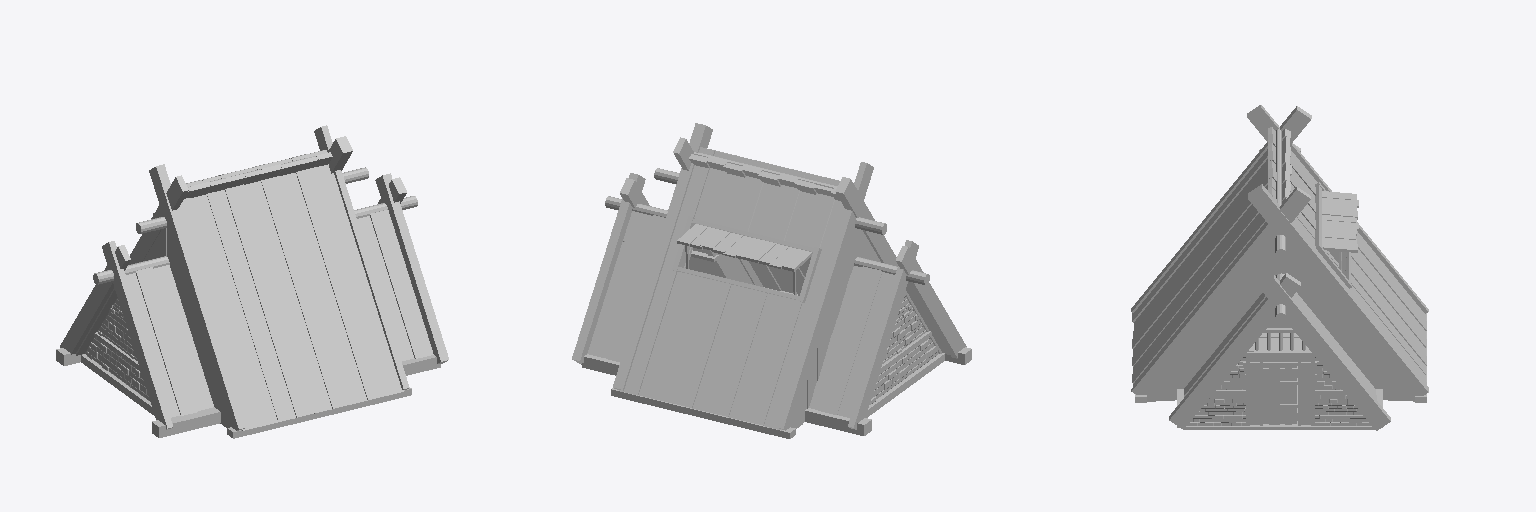
Rendered from lowpoly_viking_house_007.obj.
3 views of the same model, side by side, from view 1: azimuth 30°, elevation 25°; view 2: azimuth 150°, elevation 25°; view 3: azimuth 270°, elevation 25° (orthographic).
Visible parts, largest first — view 1: Cube.238, Cube.496, Cube.230, Cube.227, Cube.2685, Cube.472, Cube.228, Wall.002, Cube.491, Cube.231, Cube.2684, Cube.471 (+10 smaller); view 2: Cube.2972, Cube.232, Cube.497, Cube.479, Cube.2677, Cube.2680, Wall.002, Cube.238, Cube.2684, Cube.490, Cube.2675, Cube.2679 (+11 smaller); view 3: Cube.238, Cube.479, Cube.491, Cube.2972, Cube.274, Cube.233, Cube.490, Cube.472, Cube.232, Cube.810, Cube.496, Cube.497 (+5 smaller).
Part boxes in pixels (x1,y1,x2,y2): Cube.238: (178,150,403,430); Cube.496: (149,164,246,430); Cube.230: (370,210,433,358); Cube.227: (136,267,197,415); Cube.2685: (102,241,172,429); Cube.472: (375,173,448,363); Cube.228: (154,265,213,410); Wall.002: (85,298,149,400); Cube.491: (314,125,409,389); Cube.231: (357,216,413,361); Cube.2684: (60,245,130,354); Cube.471: (152,355,440,437); Cube.2972: (639,272,802,425); Cube.232: (619,147,845,430); Cube.497: (777,162,873,430); Cube.479: (613,123,712,390); Cube.2677: (587,211,651,358); Cube.2680: (818,266,881,414); Wall.002: (870,294,938,404); Cube.238: (689,154,839,295); Cube.2684: (848,240,918,429); Cube.490: (572,173,645,363); Cube.2675: (608,215,665,361); Cube.2679: (838,272,894,417); Cube.238: (1132,129,1291,385); Cube.479: (1248,184,1428,401); Cube.491: (1131,187,1310,399); Cube.2972: (1341,236,1426,380); Cube.274: (1147,244,1280,401); Cube.233: (1281,246,1412,400); Cube.490: (1259,274,1390,430); Cube.472: (1169,273,1300,429); Cube.232: (1268,127,1426,384); Cube.810: (1263,366,1297,424); Cube.496: (1131,106,1311,312); Cube.497: (1247,105,1428,313).
Bounding box in the file's own units: 6.57 × 4.24 × 5.29.